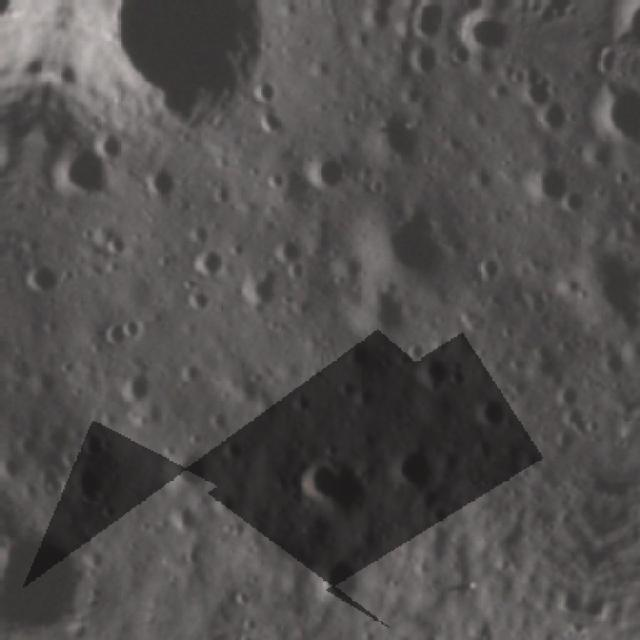crater: (71, 0, 298, 151), (342, 186, 472, 296), (540, 228, 640, 342), (0, 515, 95, 593), (288, 441, 372, 521), (38, 127, 120, 204), (580, 68, 640, 152), (300, 546, 371, 614), (154, 436, 220, 501), (382, 430, 446, 495), (364, 102, 428, 167), (348, 279, 414, 339), (400, 345, 462, 397), (232, 261, 288, 317), (516, 151, 572, 206), (59, 456, 115, 509), (112, 354, 163, 412), (90, 304, 145, 354), (296, 147, 352, 196), (466, 384, 520, 434), (512, 60, 563, 112), (518, 336, 572, 384), (81, 115, 132, 163), (179, 238, 232, 282), (20, 248, 65, 297), (244, 67, 288, 113), (138, 159, 184, 203), (534, 94, 577, 138), (175, 276, 222, 316), (399, 10, 448, 48), (89, 225, 138, 261), (472, 242, 511, 287), (398, 39, 442, 78), (416, 492, 458, 530), (589, 344, 628, 382), (611, 401, 629, 448)
